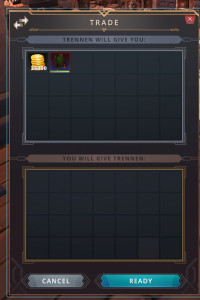gold: (27, 51, 48, 72)
